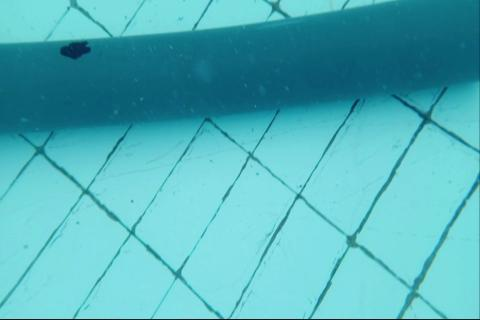kebocoran: (59, 40, 92, 60)
